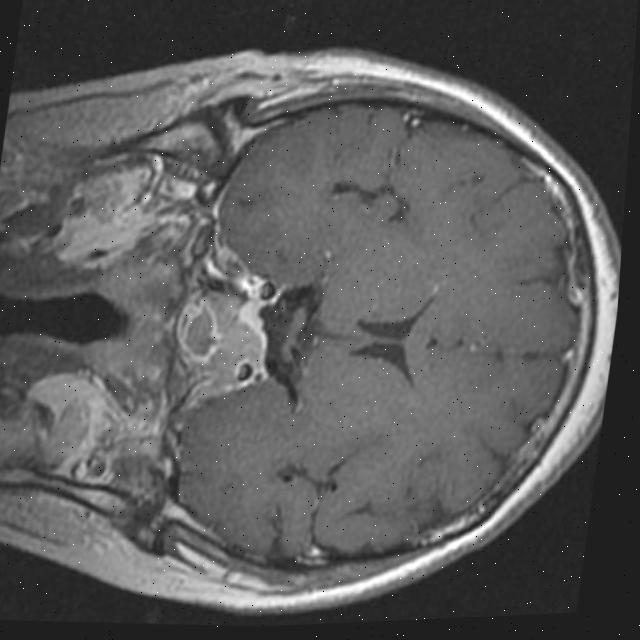Pituitary: (167, 283, 271, 373)
